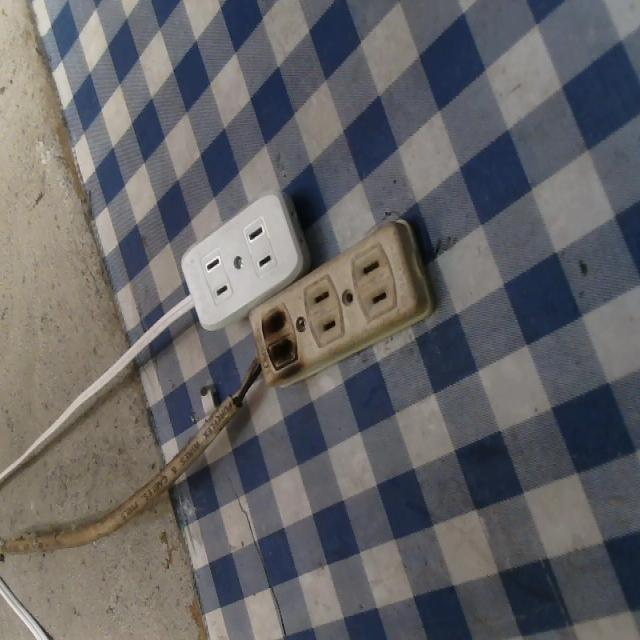-: (254, 298, 303, 378)
